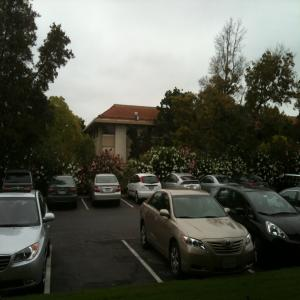Vehicle-registration-plate: (224, 257, 237, 270), (106, 189, 111, 193), (150, 186, 155, 190), (60, 192, 66, 195), (191, 187, 195, 189)
